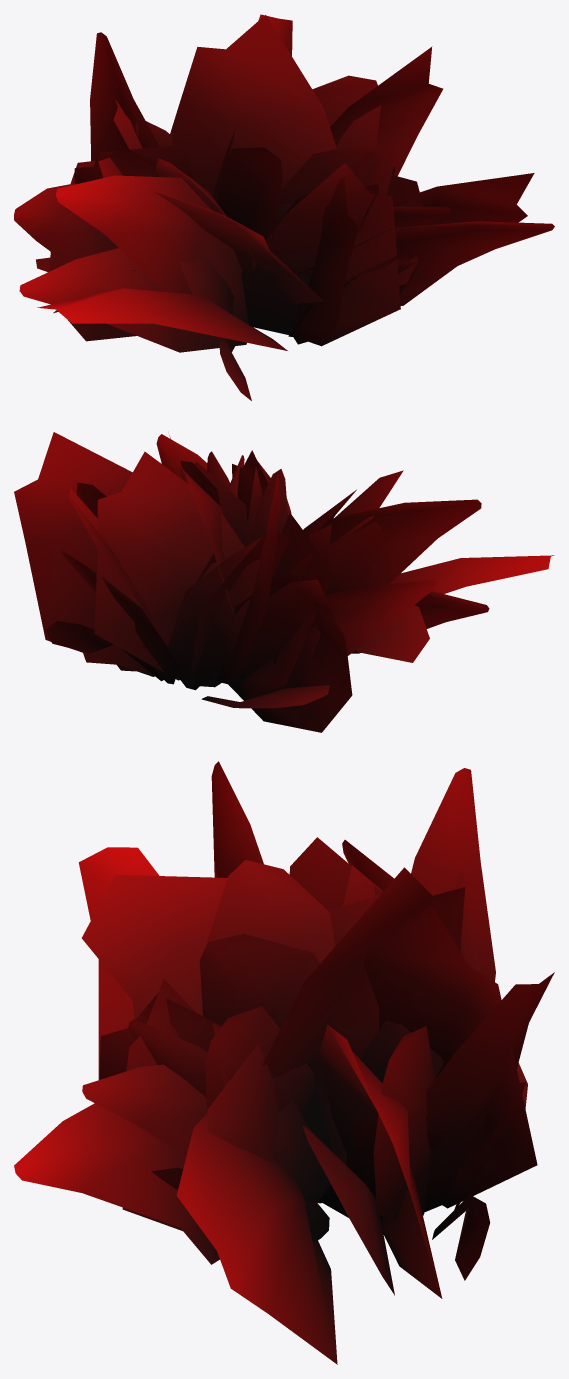
The model's file is Juniper_Bush_01_Var5.fbx.
The picture shows the model from 3 angles, top to bottom: view 1: azimuth 30°, elevation 25°; view 2: azimuth 150°, elevation 25°; view 3: azimuth 270°, elevation 25°; orthographic projection. The views are drawn at different scales.
Visible parts, largest first — view 1: Juniper_Bush_01_Var5_LOD0; view 2: Juniper_Bush_01_Var5_LOD0; view 3: Juniper_Bush_01_Var5_LOD0.
Boxes of the visible parts, bbox=[...] form: Juniper_Bush_01_Var5_LOD0: bbox=[14, 14, 554, 400]; Juniper_Bush_01_Var5_LOD0: bbox=[14, 432, 554, 732]; Juniper_Bush_01_Var5_LOD0: bbox=[14, 761, 554, 1364].
Size of what is drawn, in the model's own units: 81.21 by 44.85 by 52.05.
